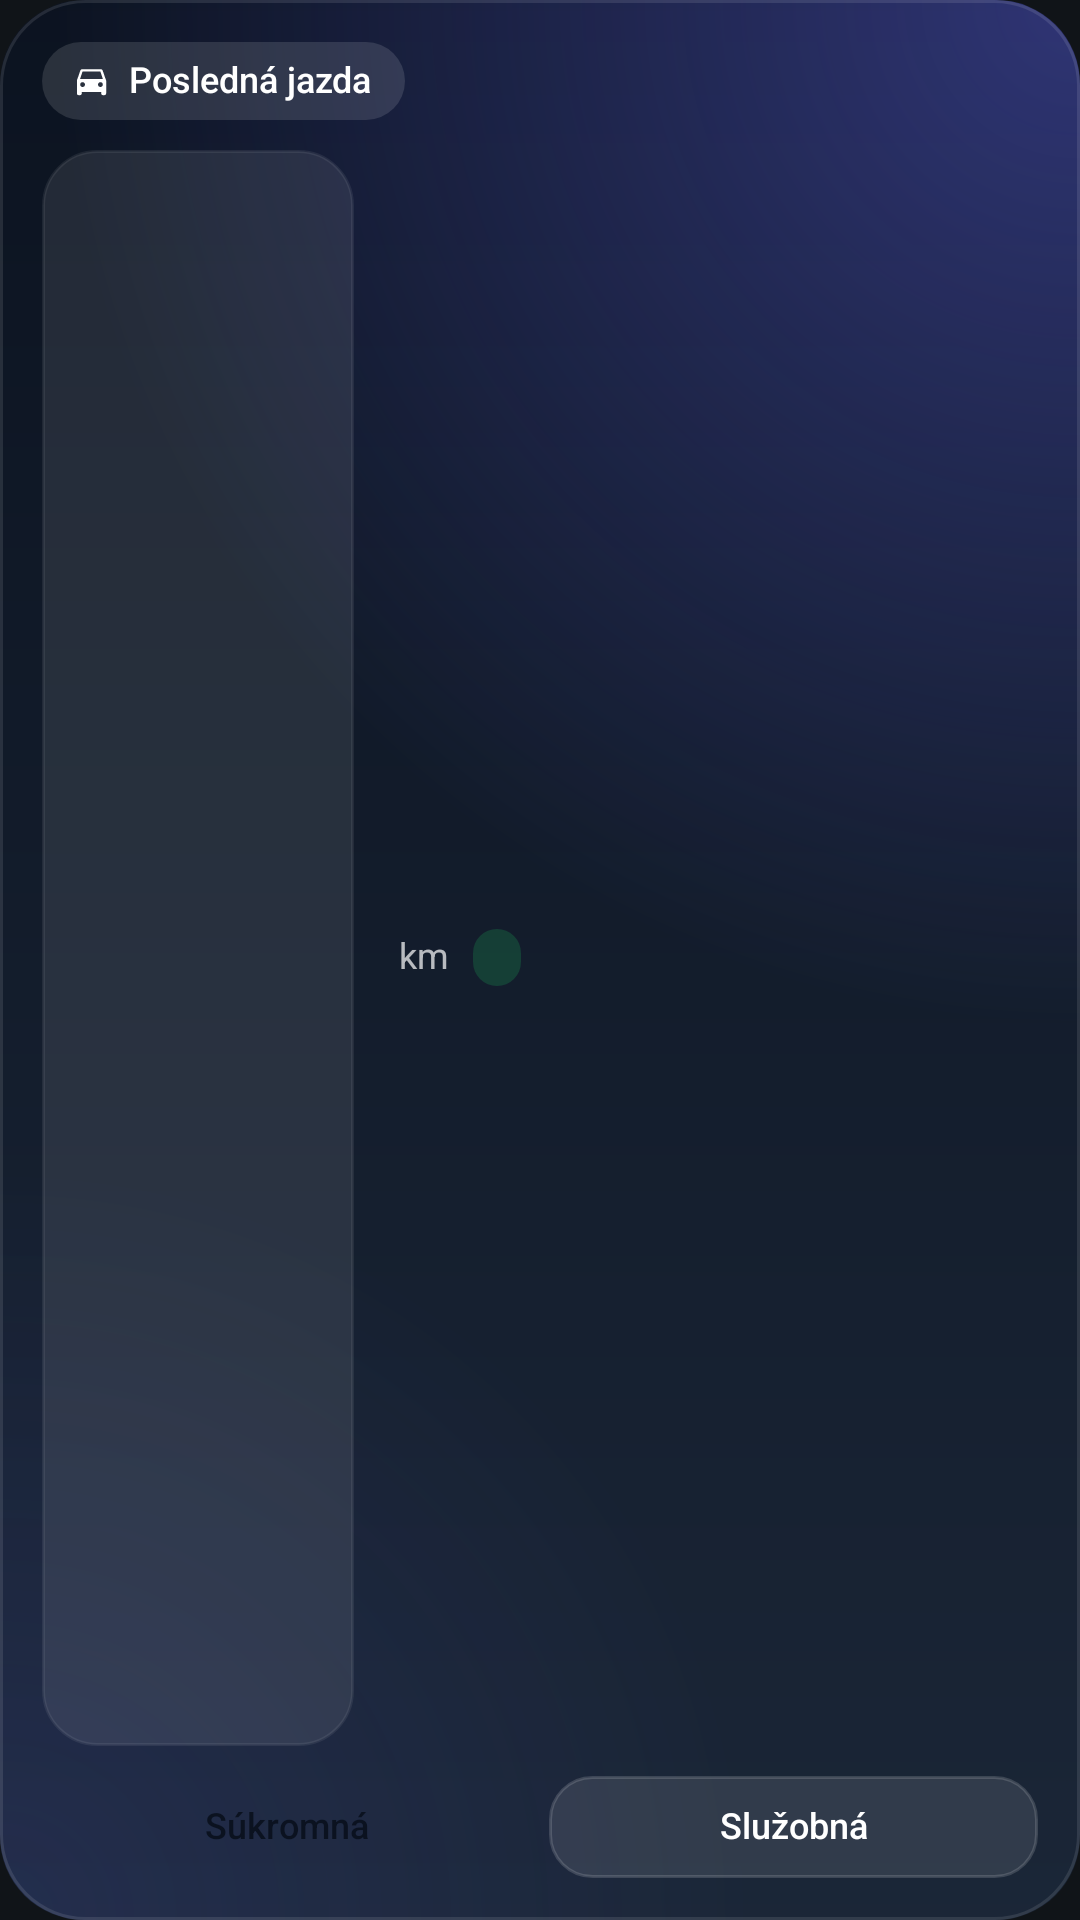

Where icons sit on this 1080×1920 app screen, as {"x1": x1, "y1": y1, "x2": x2, "y2": y2}:
car: {"x1": 77, "y1": 69, "x2": 107, "y2": 96}
